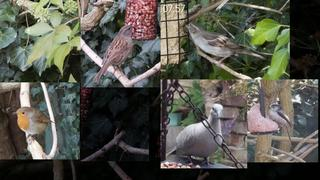collared dove: (166, 103, 223, 165)
dunnock: (93, 24, 137, 83)
long tailed tit: (268, 103, 294, 153)
robin: (12, 106, 56, 145)
sparrow: (185, 22, 266, 69)
